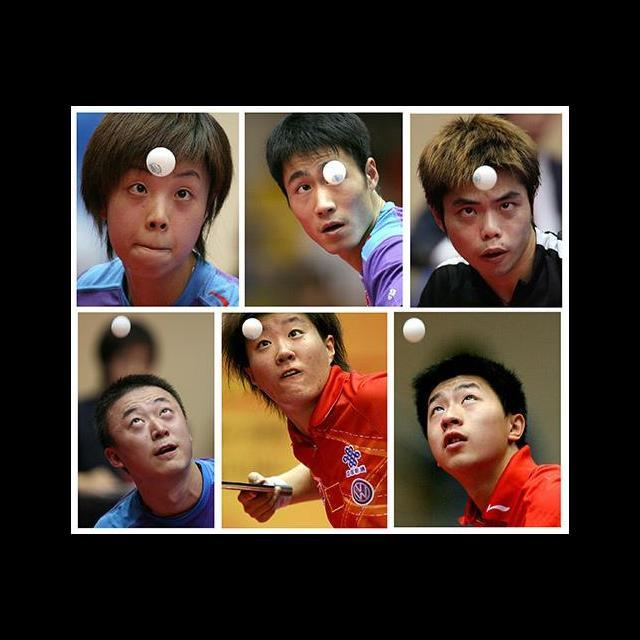ping-pong-ball: (146, 146, 176, 176), (472, 164, 498, 191), (403, 317, 427, 343), (324, 160, 346, 185), (243, 317, 263, 338), (112, 316, 130, 336)
